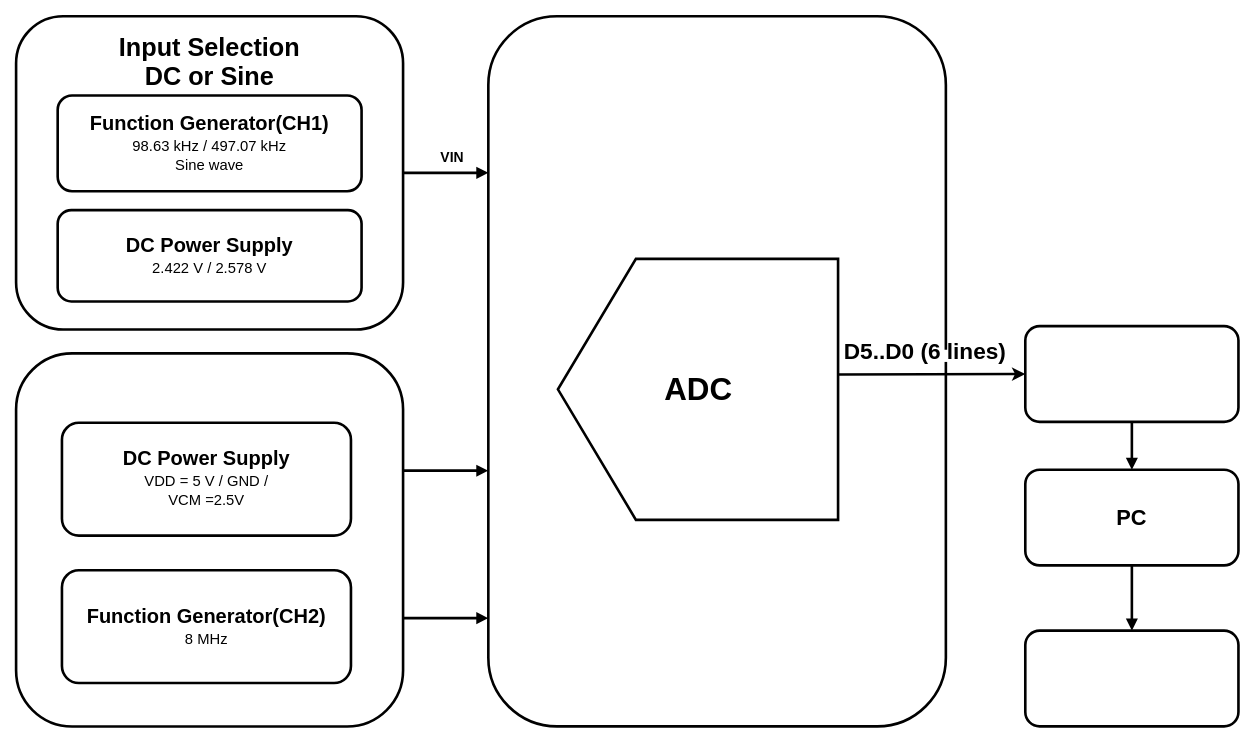
This 1255x743 diagram has some shape labels left out. The shapes that lost their labels are listed below. From the top down, each one's box as (x1, y1, x2, y2) in pixels, then its label:
(487, 15, 947, 727): 28-pin SOP package mounted in DIP socket
(1024, 324, 1239, 423): Logic Analyzer
(14, 352, 404, 727): Constant Input
(1024, 629, 1239, 727): Python Analysis
